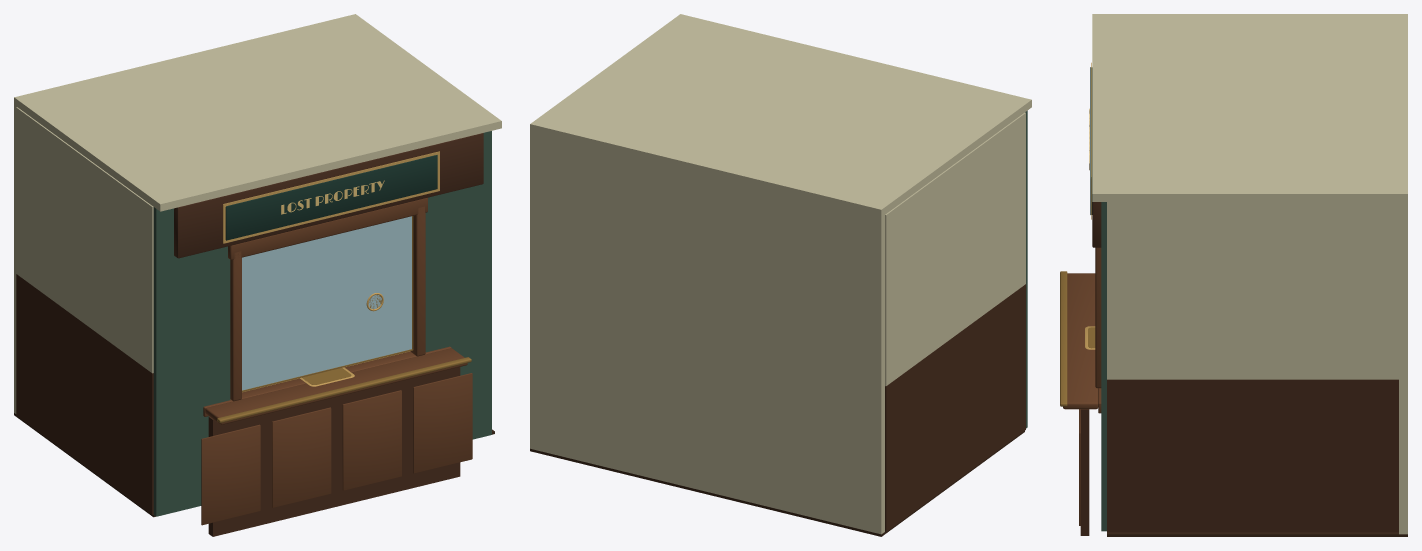
File: Booth.fbx
3 renders of one model, left to right at view 1: azimuth 30°, elevation 25°; view 2: azimuth 150°, elevation 25°; view 3: azimuth 270°, elevation 25°, orthographic. The views are drawn at different scales.
Parts seen in each view (by area): view 1: Walls, Counter, Glass, Header, WindowFrame; view 2: Walls; view 3: Walls, Counter, WindowFrame, Header.
Boxes of the visible parts, box(x1,y1,x2,y2) form: Walls: box(14, 14, 501, 517); Counter: box(201, 346, 472, 536); Glass: box(242, 216, 411, 390); Header: box(174, 133, 483, 258); WindowFrame: box(228, 197, 427, 401); Walls: box(530, 14, 1031, 536); Walls: box(1092, 14, 1407, 536); Counter: box(1060, 271, 1101, 535); WindowFrame: box(1095, 247, 1101, 388); Header: box(1089, 62, 1101, 247).
Size of the model in its own units: 2.91 by 2.76 by 2.37.
